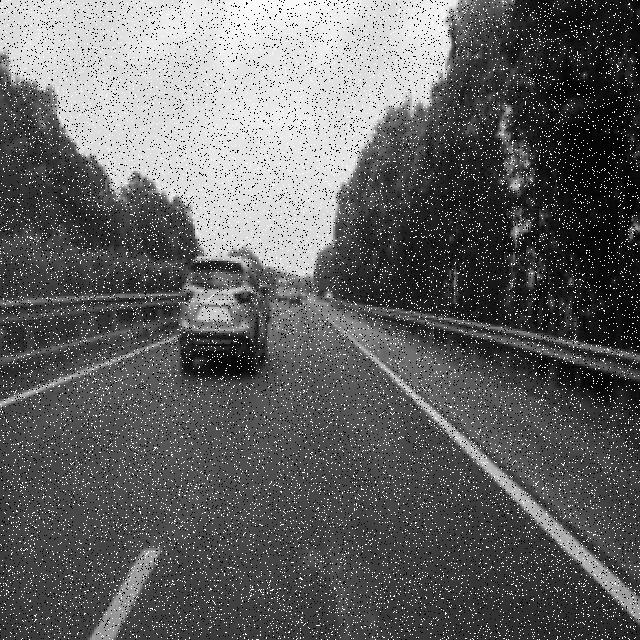clear-road: (0, 301, 640, 640)
